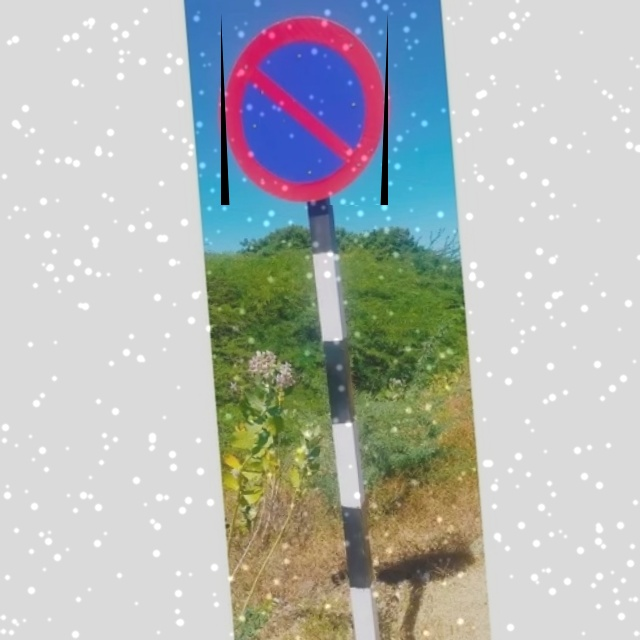No_Stopping_or_Standing: (221, 12, 388, 205)
